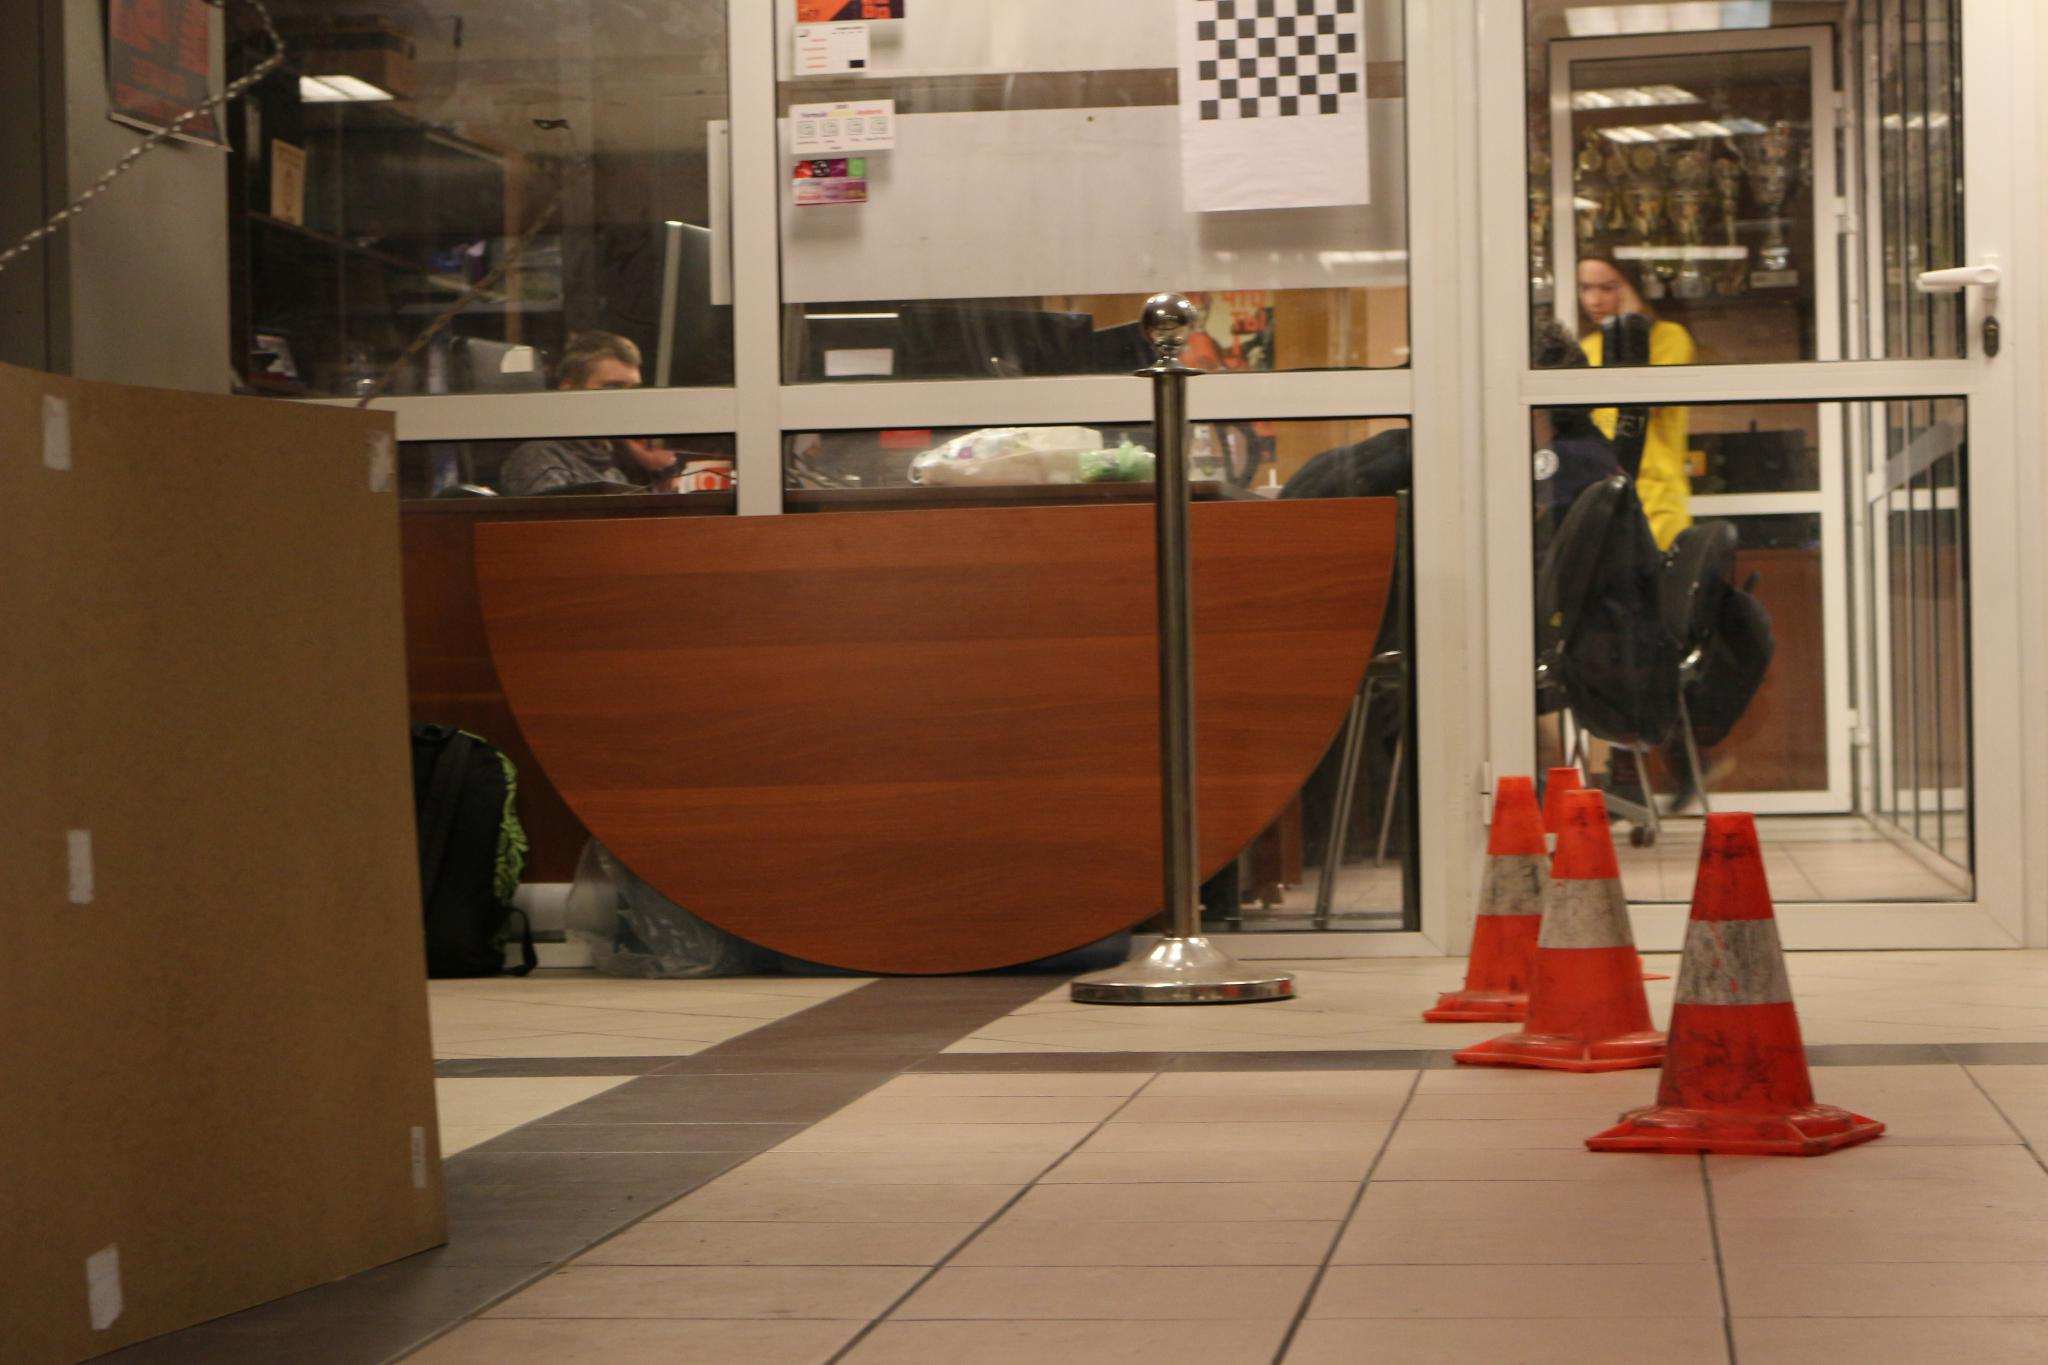Orange_Cone: (1619, 803, 1873, 1147), (1494, 782, 1673, 1068), (1436, 768, 1606, 1030)
